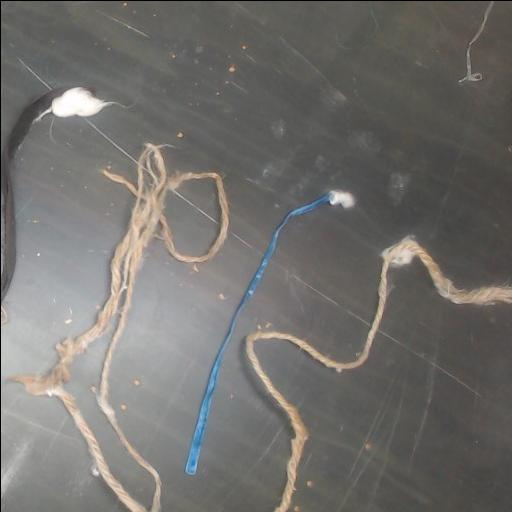conveyor belt: (1, 1, 512, 512), (255, 258, 512, 512), (68, 334, 152, 505), (164, 180, 219, 253)
cotton: (34, 87, 117, 121), (330, 190, 355, 207)
jute: (13, 144, 228, 512), (245, 236, 512, 512), (248, 242, 502, 512)
thread: (184, 192, 333, 474), (1, 88, 64, 304), (458, 1, 493, 83)
